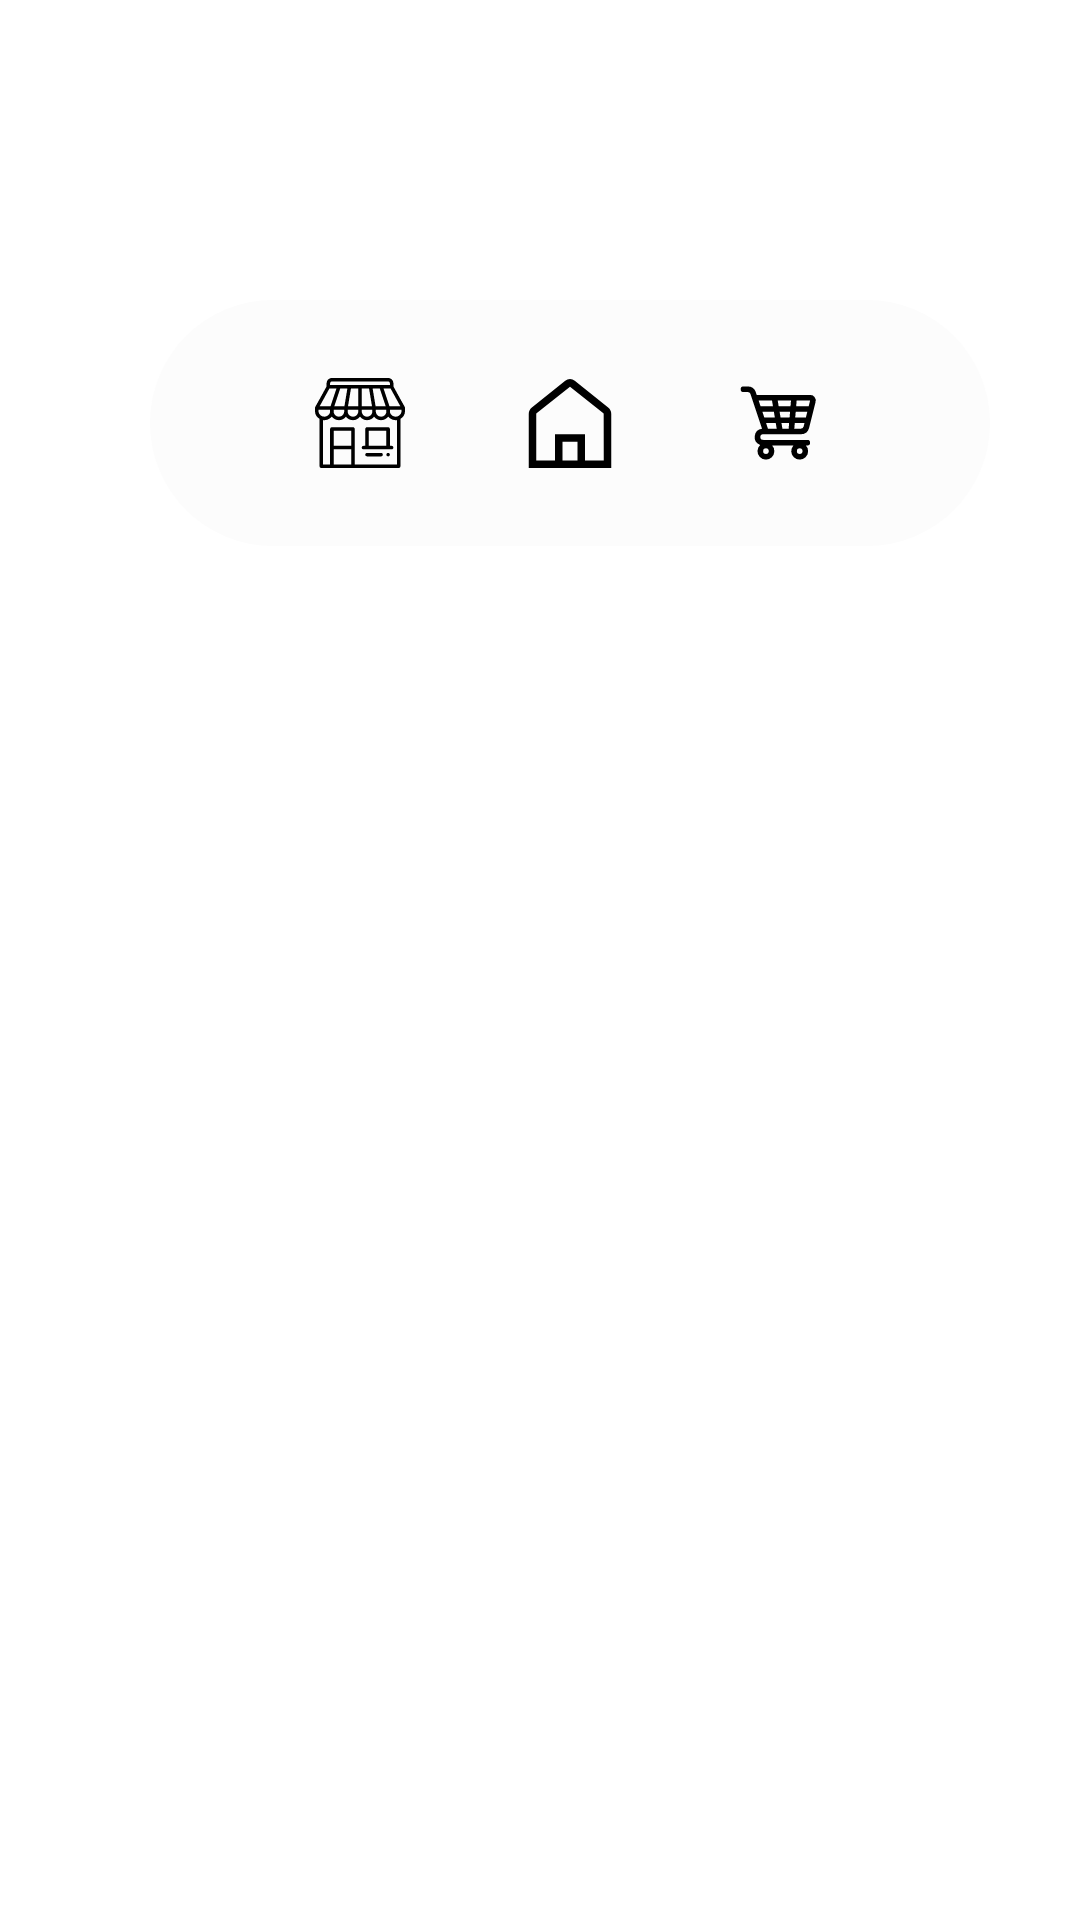

Icon click points for this 1080px×1920px phone screenshot, format point (x, y):
cart: point (778, 423)
home: point (570, 423)
shop: point (360, 423)
